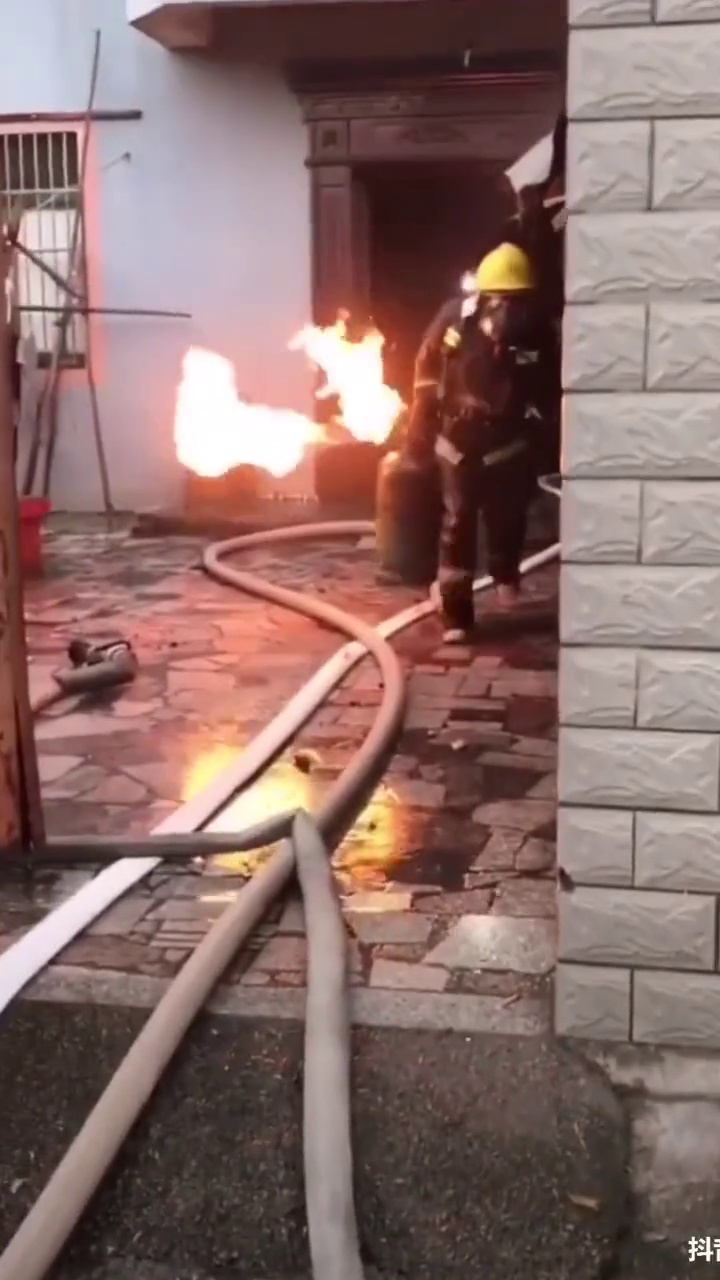fire: (168, 312, 392, 477)
